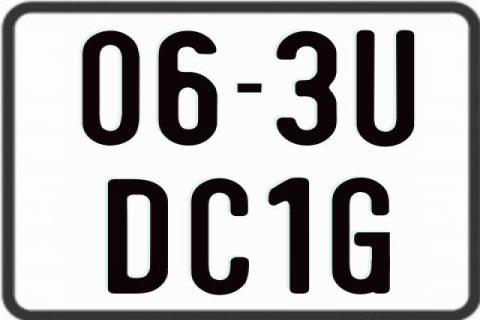0: (82, 29, 144, 145), (158, 29, 218, 148), (277, 30, 338, 146), (266, 177, 309, 293)
C: (190, 176, 249, 295)
D: (106, 178, 170, 294)
G: (332, 176, 396, 297)
U: (353, 31, 417, 151)
